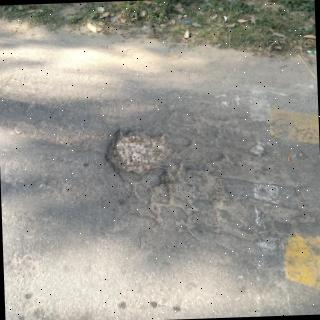pothole: (106, 129, 165, 181)
